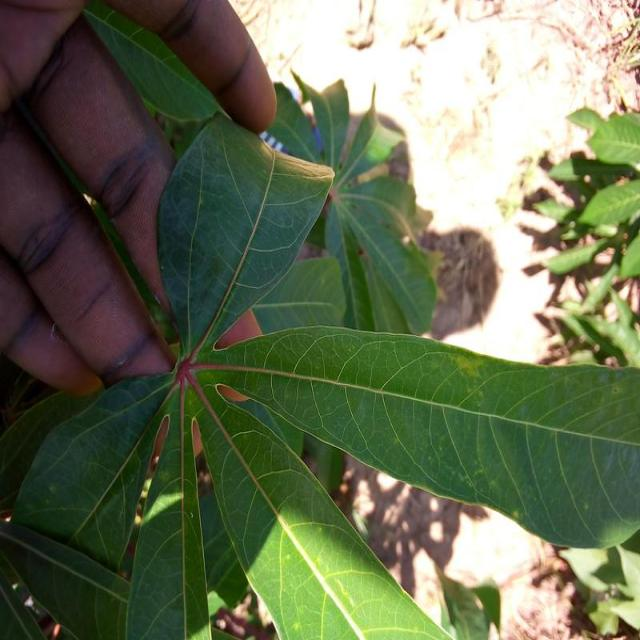cassava leaf: (1, 3, 638, 637), (191, 323, 639, 550), (191, 380, 455, 638)
